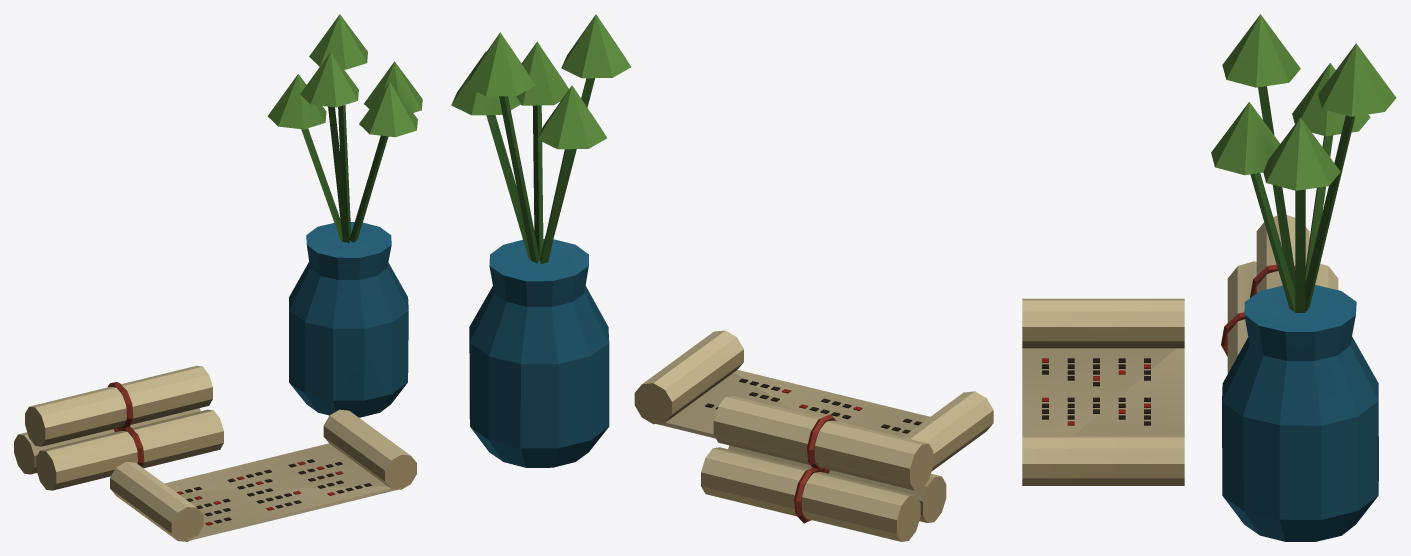
3 renders of one model, left to right at view 1: azimuth 30°, elevation 25°; view 2: azimuth 150°, elevation 25°; view 3: azimuth 270°, elevation 25°, orthographic. The views are drawn at different scales.
Parts seen in each view (by area): view 1: base; view 2: base; view 3: base.
Part boxes in pixels (box(x1,y1,x2,y2)): base: box(14, 14, 422, 541); base: box(451, 14, 993, 541); base: box(1022, 14, 1396, 541).
Bounding box in the file's own units: 0.5148 × 0.4636 × 0.323.
